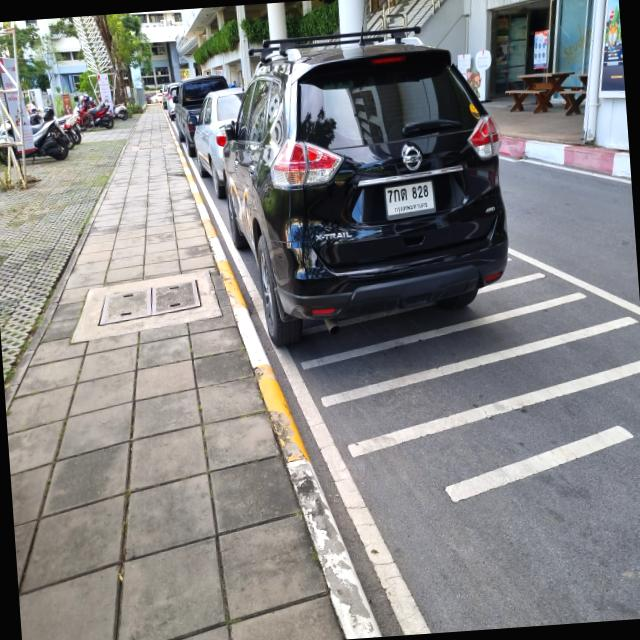license_plate: (380, 175, 437, 224)
